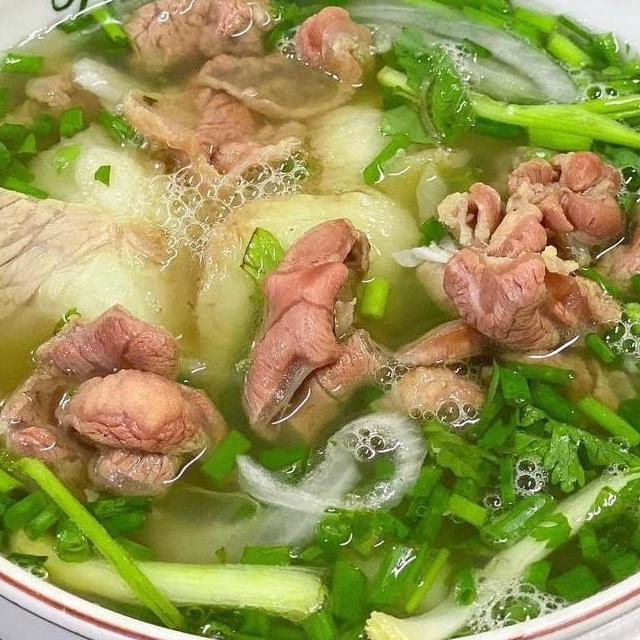thit bo: (0, 291, 208, 515), (232, 207, 408, 460), (0, 178, 198, 401), (408, 174, 640, 358), (110, 73, 322, 214), (408, 234, 635, 363), (180, 0, 389, 129), (48, 363, 244, 479), (497, 136, 640, 278), (113, 0, 288, 87)
